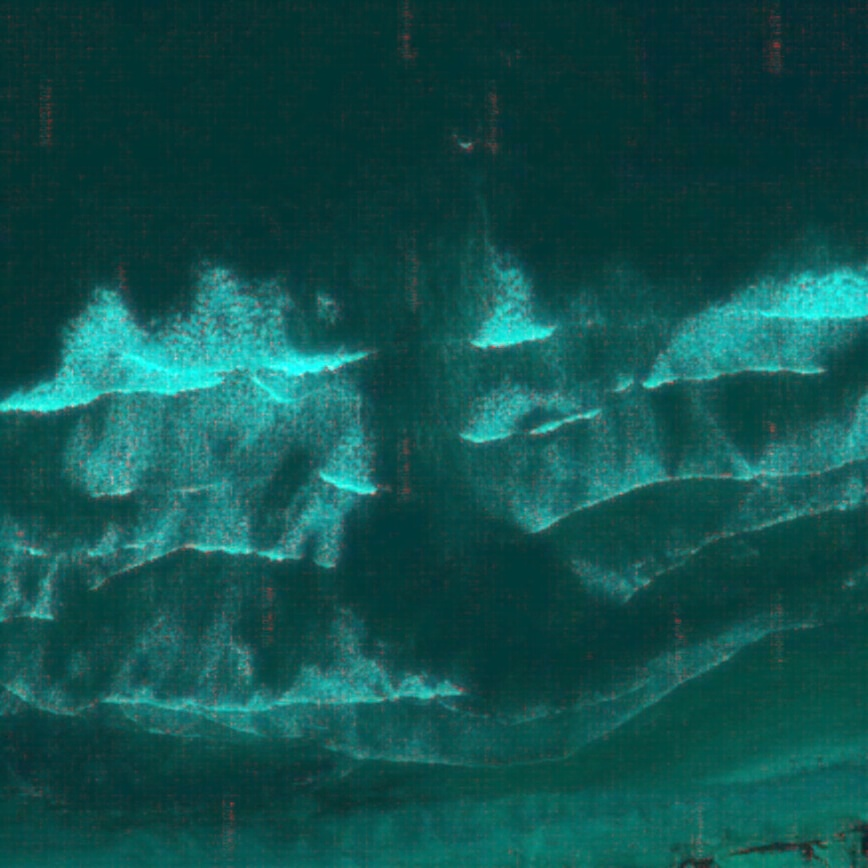rip_current: (283, 251, 595, 639)
